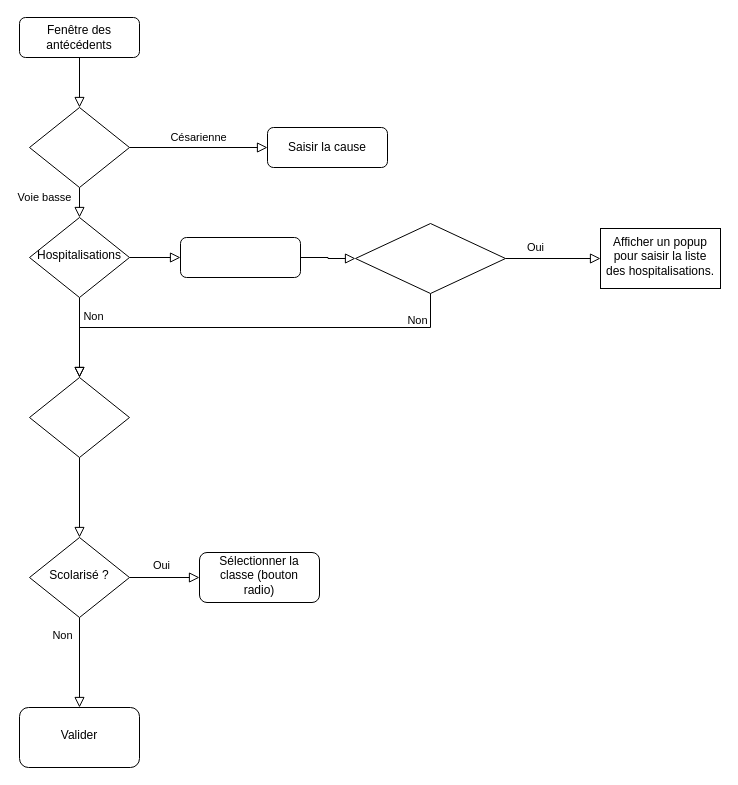
Some shapes in this 738 by 785 pixel diagram are drawn without their labels. The box of each missing label's shape, as (x1, y1, x2, y2) in pixels:
Allergies: (28, 376, 130, 458)
Saisir la liste des hospitalisations: (354, 222, 506, 294)
Saisir le nombre: (180, 236, 300, 278)
Type d'accouchement: (28, 106, 130, 188)
